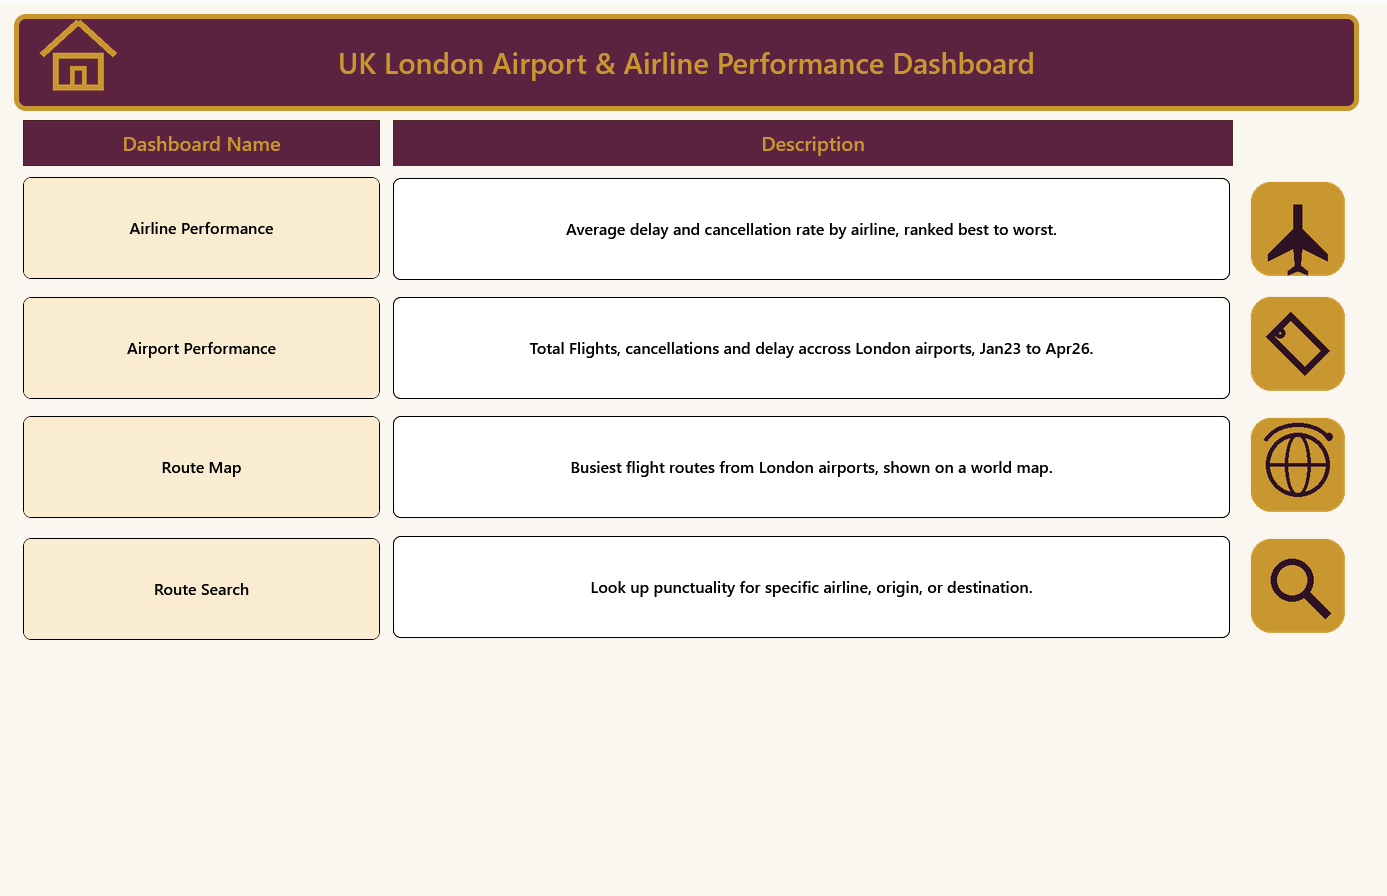

The dashboard page shown, as its layout file describes it:
{"tool":"tableau","page":{"name":"Home","canvas":[1400,900],"ordinal":2},"visuals":[{"type":"image","param":"Image/nav_home 1.png","box":[34,2,146,106]},{"type":"text","box":[21,9,1349,101]},{"type":"text","box":[32,117,357,46]},{"type":"text","box":[402,117,840,46]},{"type":"dashboard-object","box":[1243,169,126,113]},{"type":"dashboard-object","box":[32,174,357,102]},{"type":"dashboard-object","box":[402,175,837,102]},{"type":"dashboard-object","box":[1243,284,126,113]},{"type":"dashboard-object","box":[32,294,357,102]},{"type":"dashboard-object","box":[402,294,837,102]},{"type":"dashboard-object","box":[1243,405,126,113]},{"type":"dashboard-object","box":[32,413,357,102]},{"type":"dashboard-object","box":[402,413,837,102]},{"type":"dashboard-object","box":[1243,526,126,113]},{"type":"dashboard-object","box":[402,533,837,102]},{"type":"dashboard-object","box":[32,535,357,102]}]}

Visuals, with their boxes in screenshot pixels (x1, y1, x2, y2), scaled from the page's 1400x900 canvas onto the 1387x896 screenshot:
image: 34,2,178,108
text: 21,9,1357,110
text: 32,116,385,162
text: 398,116,1230,162
dashboard-object: 1231,168,1356,281
dashboard-object: 32,173,385,275
dashboard-object: 398,174,1227,276
dashboard-object: 1231,283,1356,395
dashboard-object: 32,293,385,394
dashboard-object: 398,293,1227,394
dashboard-object: 1231,403,1356,516
dashboard-object: 32,411,385,513
dashboard-object: 398,411,1227,513
dashboard-object: 1231,524,1356,636
dashboard-object: 398,531,1227,632
dashboard-object: 32,533,385,634
